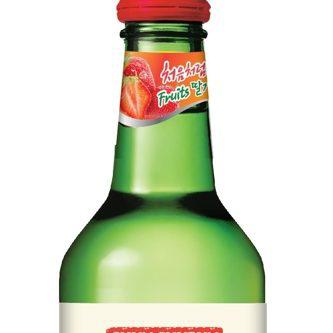soju: (56, 1, 270, 333)
